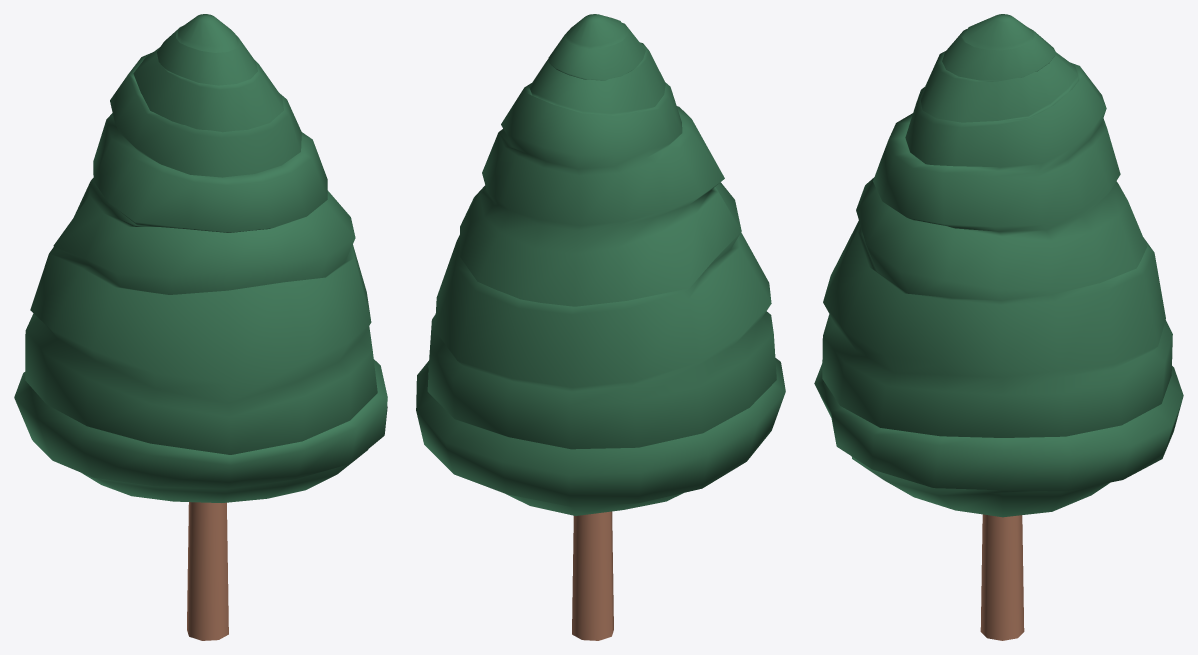
The model's file is TreeB1.fbx.
The picture shows the model from 3 angles, left to right: view 1: azimuth 30°, elevation 25°; view 2: azimuth 150°, elevation 25°; view 3: azimuth 270°, elevation 25°; orthographic projection.
Visible parts, largest first — view 1: Tree_B1; view 2: Tree_B1; view 3: Tree_B1.
Part boxes in pixels (x1,y1,x2,y2): Tree_B1: [14, 14, 387, 640]; Tree_B1: [416, 14, 785, 640]; Tree_B1: [814, 14, 1183, 640].
Bounding box in the file's own units: 242 × 450 × 245.
